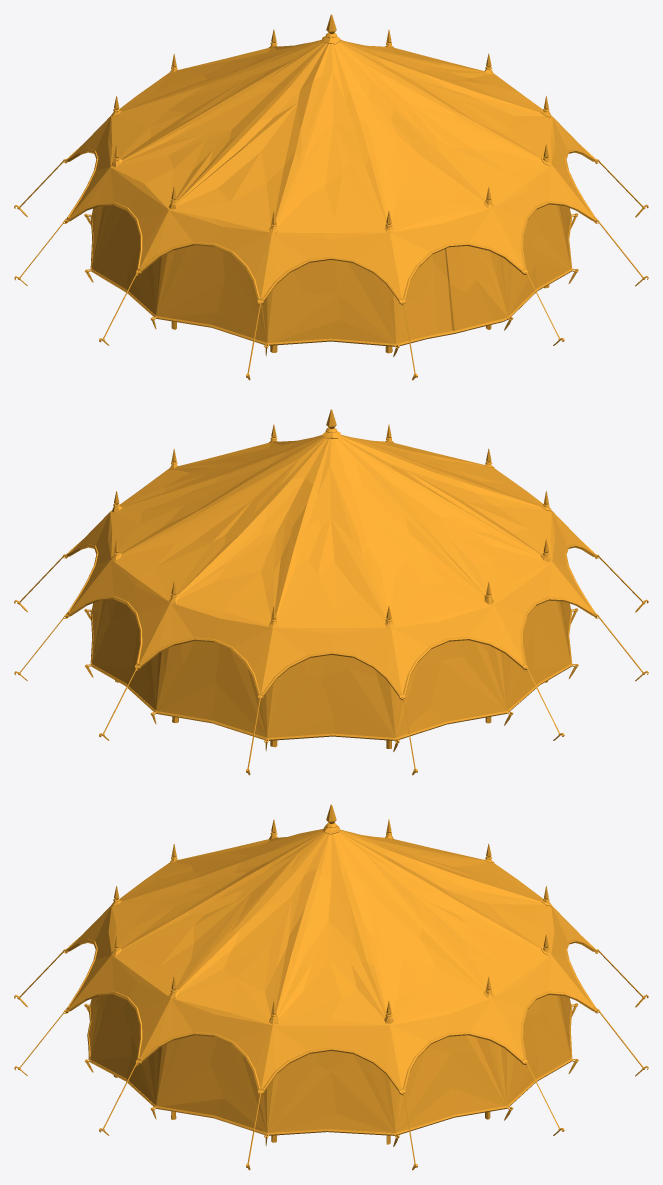
File: SM_Tent_Dodecagon_Striped_Closed_Fantasy.fbx
The picture shows the model from 3 angles, top to bottom: view 1: azimuth 30°, elevation 25°; view 2: azimuth 150°, elevation 25°; view 3: azimuth 270°, elevation 25°; orthographic projection.
Visible parts, largest first — view 1: tent-dodecagon-striped-closed-fantasy; view 2: tent-dodecagon-striped-closed-fantasy; view 3: tent-dodecagon-striped-closed-fantasy.
Boxes of the visible parts, <box> form: tent-dodecagon-striped-closed-fantasy: <box>14,14,648,380</box>; tent-dodecagon-striped-closed-fantasy: <box>14,409,648,775</box>; tent-dodecagon-striped-closed-fantasy: <box>14,804,648,1170</box>.
Size of the model in its own units: 13.89 by 6 by 13.89.
